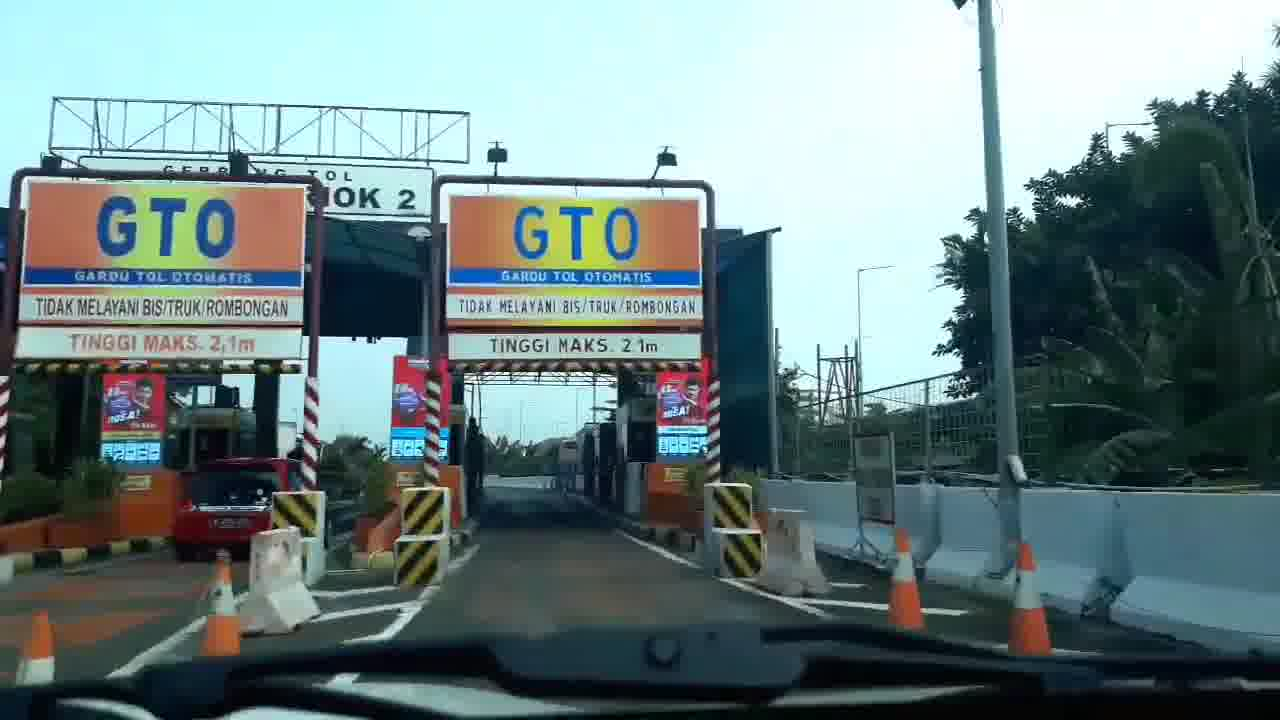plate_positive: (214, 517, 250, 529)
